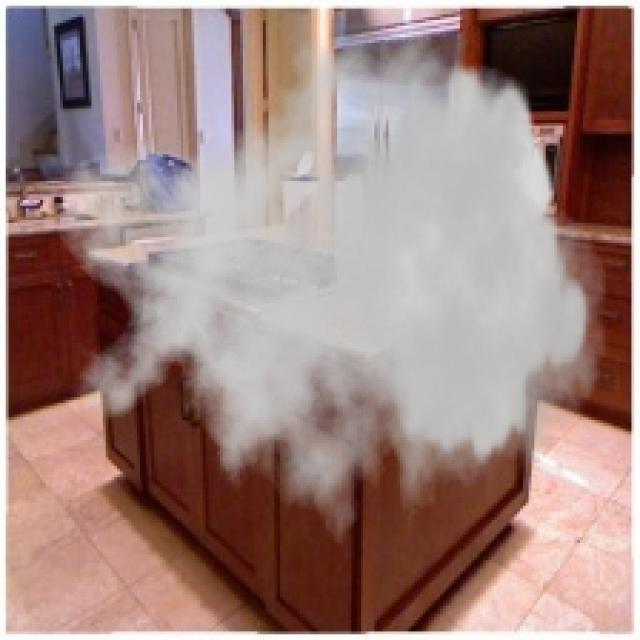smoke: (54, 9, 609, 572)
